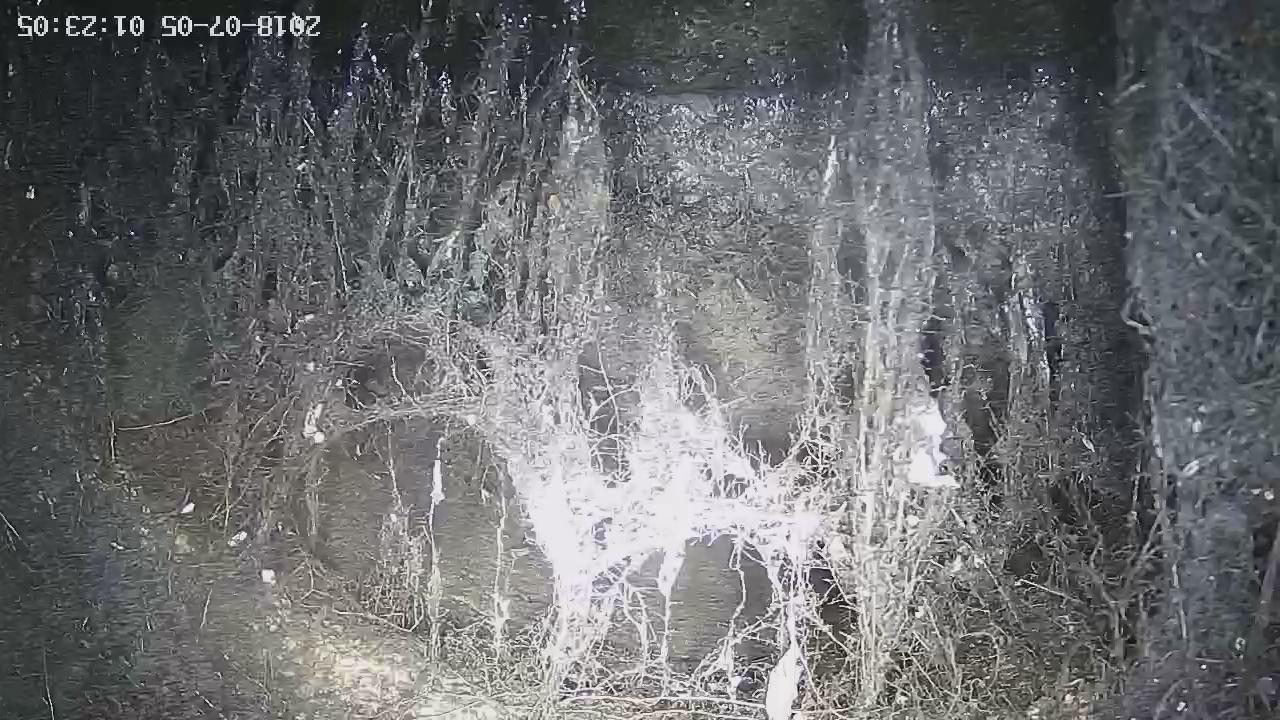SG: (1, 1, 1280, 720)
